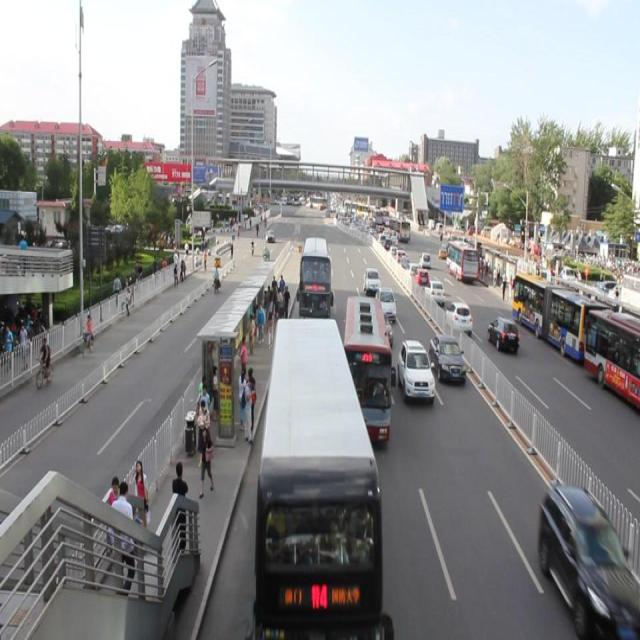car: (531, 483, 639, 640), (394, 333, 435, 403), (426, 329, 468, 386), (368, 304, 394, 348), (372, 281, 398, 323), (362, 264, 381, 298)
van: (249, 315, 393, 640), (336, 288, 396, 450), (292, 233, 338, 322)
